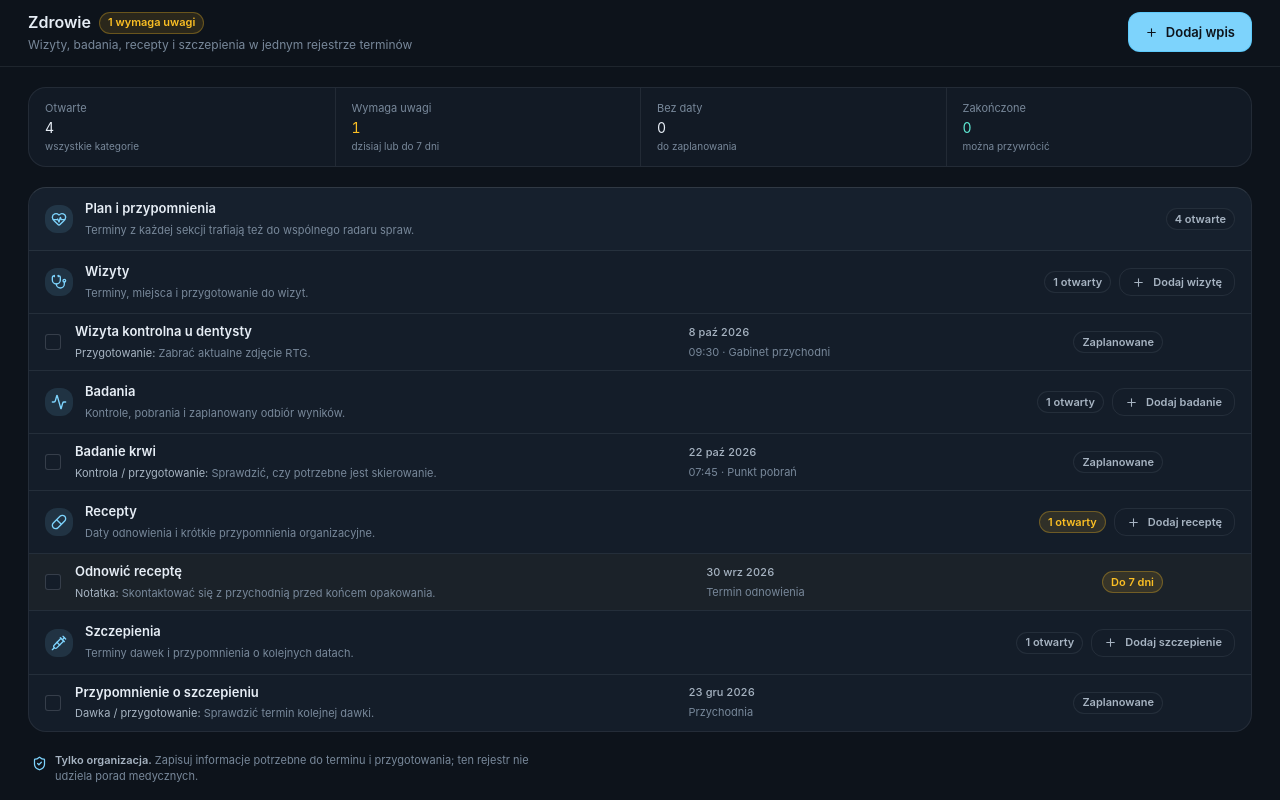
Test case: HealthWorkspace › opens a category-specific prescription editor and creates the entry
Click the button "Dodaj receptę": (1174, 522) [1114,508,1235,536]
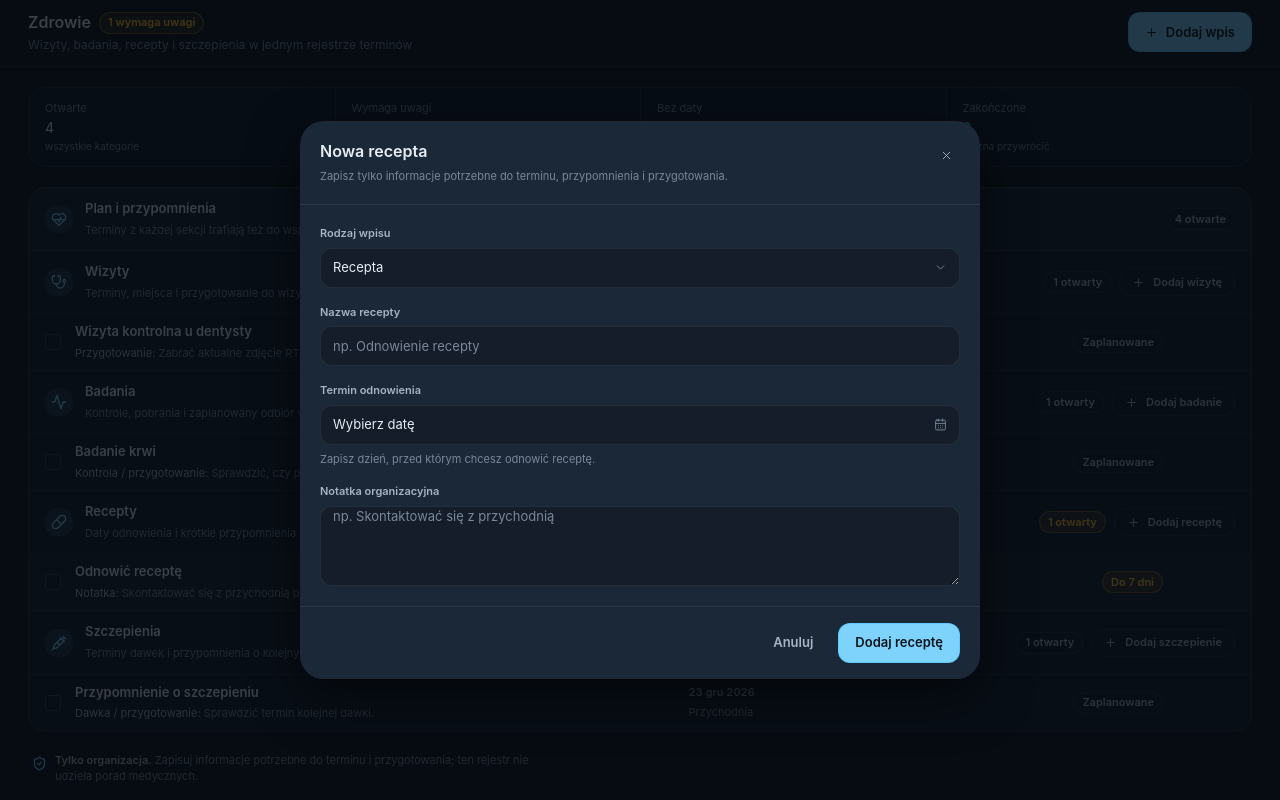
Result: the button named "Termin odnowienia" is shown at [320,405,960,445]
In the field labelled "Nazwa recepty": (640, 346) [320,326,960,366], type "Recepta testowa"
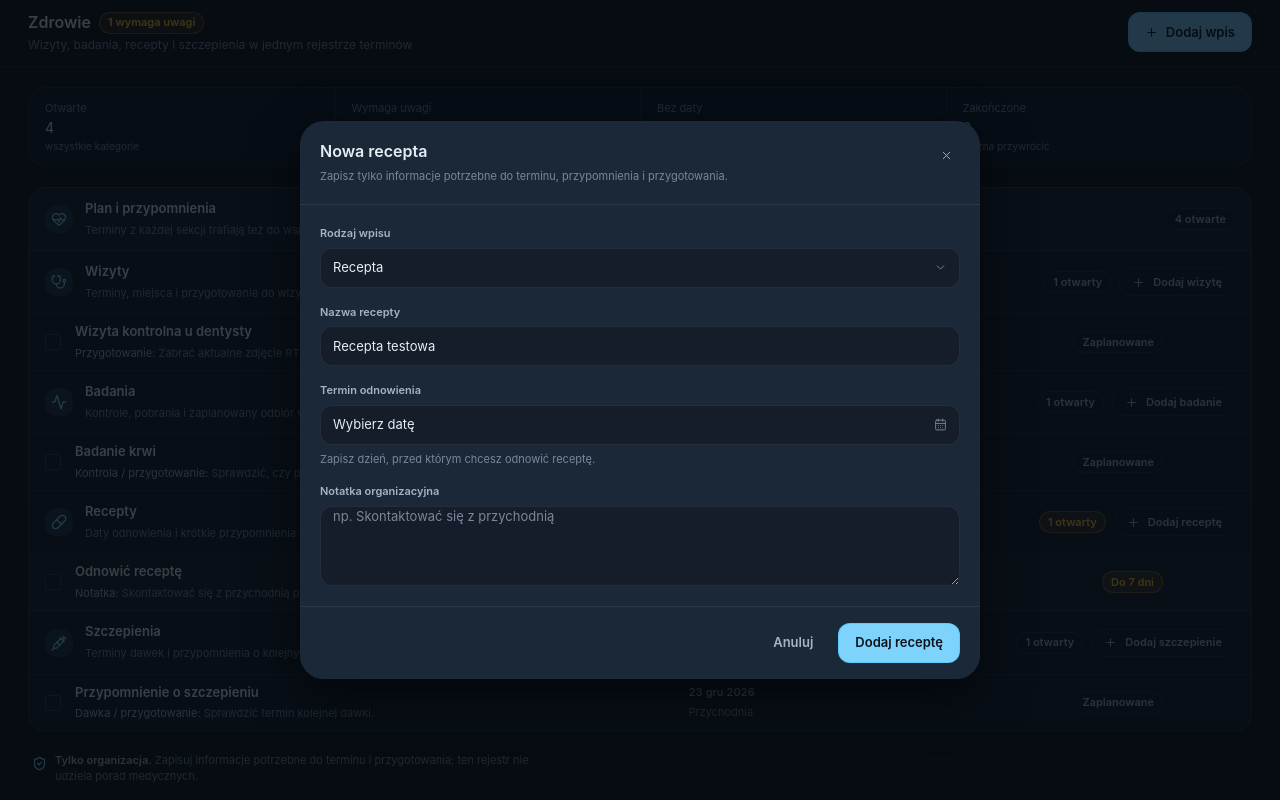
Click the button "Dodaj receptę": (899, 643) [838,623,960,663]
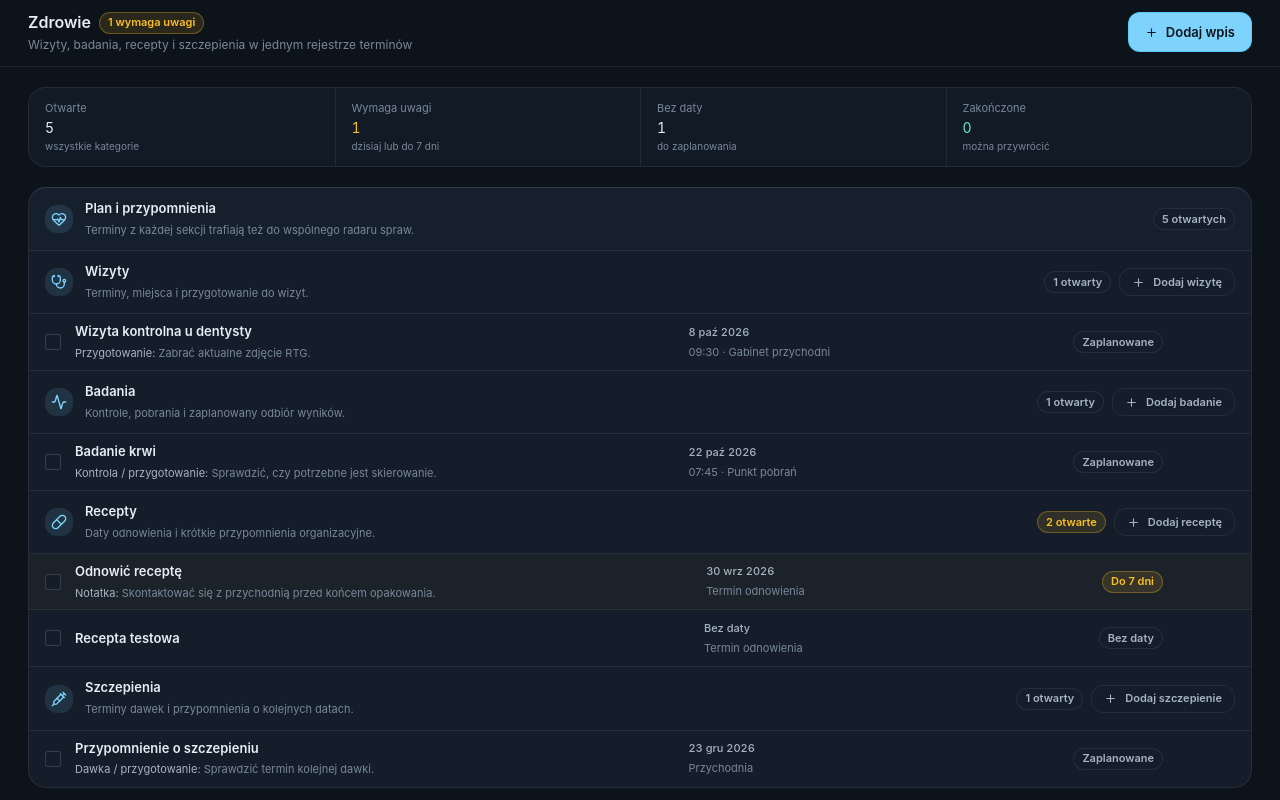
Result: the text "Recepta testowa" is shown at [75,630,180,646]
